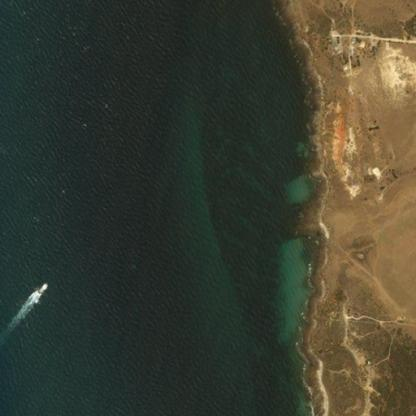ship: (38, 283, 46, 291)
